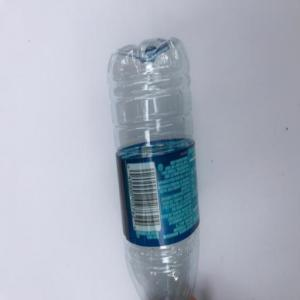Plastic-bottle: (107, 37, 203, 300)
